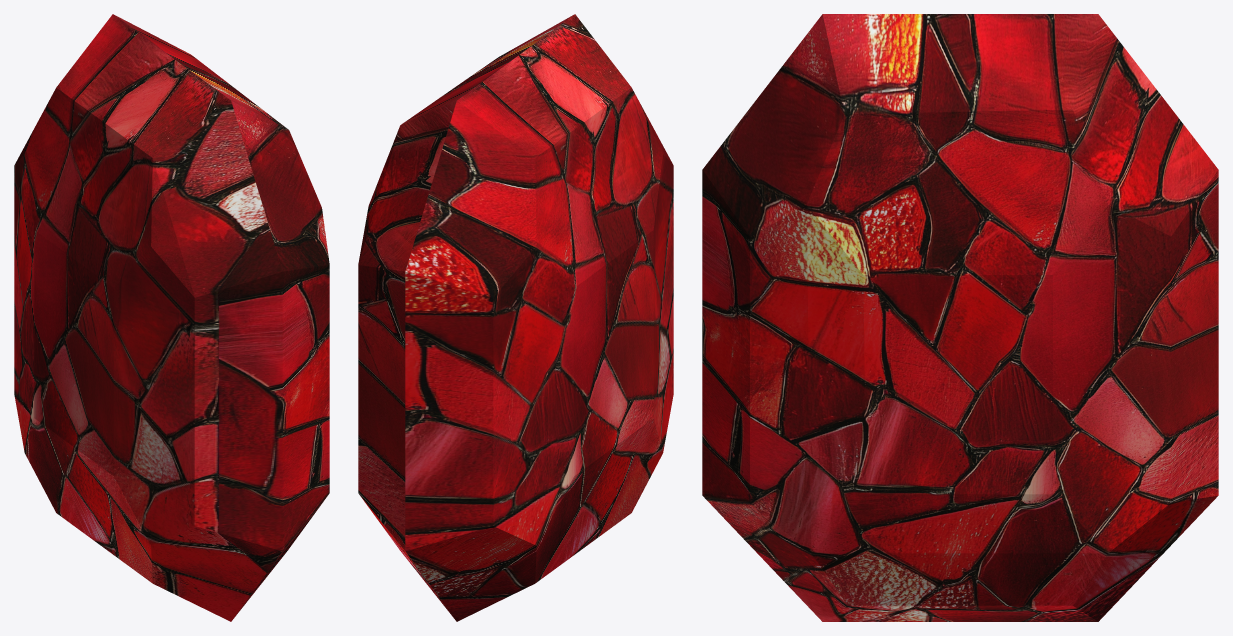
Rendered from gemstone8Red.glb.
3 renders of one model, left to right at view 1: azimuth 30°, elevation 25°; view 2: azimuth 150°, elevation 25°; view 3: azimuth 270°, elevation 25°, orthographic. The views are drawn at different scales.
Parts seen in each view (by area): view 1: gemstone7; view 2: gemstone7; view 3: gemstone7.
Part boxes in pixels (left/top/right/bottom): gemstone7: left=14, top=14, right=329, bottom=621; gemstone7: left=358, top=14, right=673, bottom=621; gemstone7: left=702, top=14, right=1218, bottom=621.
Size of the model in its own units: 0.5 by 1.3 by 1.
1 material, 1 textured.
